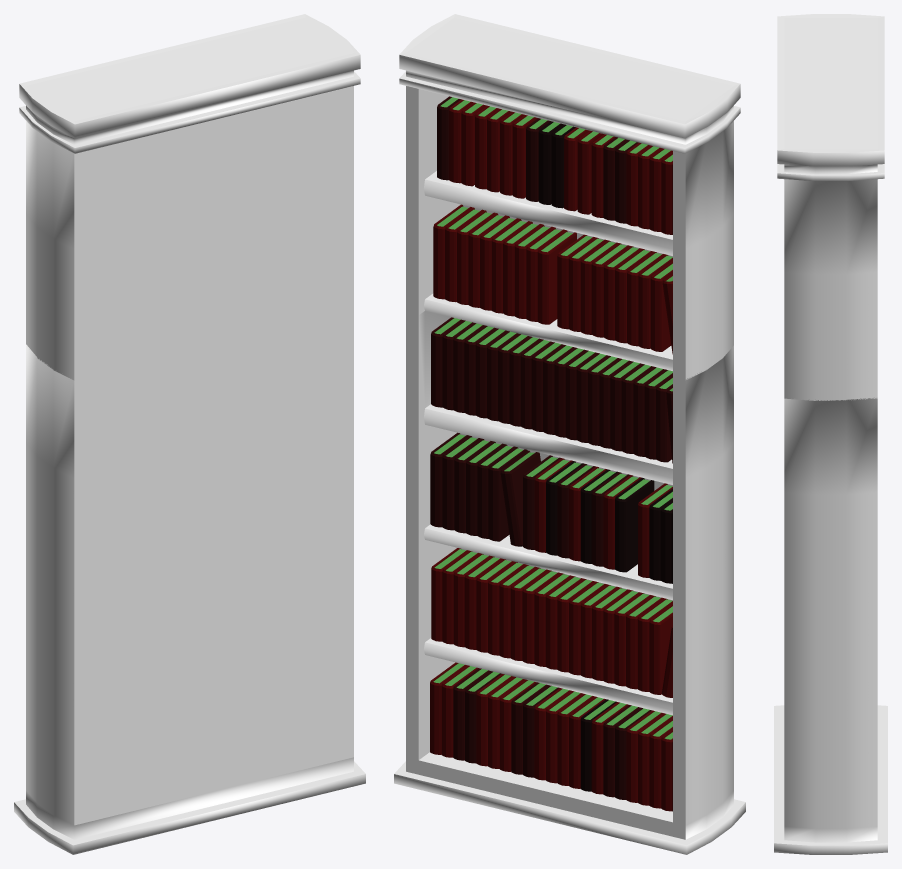
The model's file is Tall1.fbx.
3 renders of one model, left to right at view 1: azimuth 30°, elevation 25°; view 2: azimuth 150°, elevation 25°; view 3: azimuth 270°, elevation 25°, orthographic. The views are drawn at different scales.
Visible parts, largest first — view 1: Book Shelf.011; view 2: Book Shelf.011; view 3: Book Shelf.011.
Part boxes in pixels (x1,y1,x2,y2): Book Shelf.011: (14,14,365,854); Book Shelf.011: (394,14,745,854); Book Shelf.011: (774,14,887,854).
Size of the model in its own units: 1127 by 2586 by 381.
